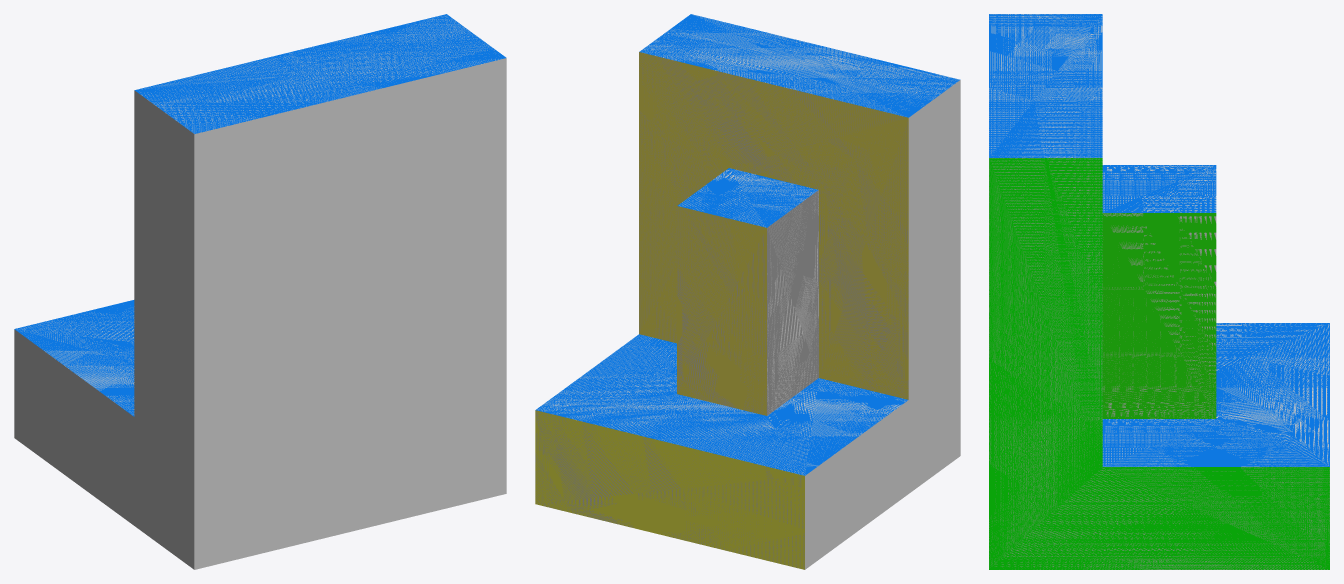
Rendered from Figura5.dae.
The picture shows the model from 3 angles, left to right: view 1: azimuth 30°, elevation 25°; view 2: azimuth 150°, elevation 25°; view 3: azimuth 270°, elevation 25°; orthographic projection. The views are drawn at different scales.
Parts seen in each view (by area): view 1: SketchUp (×3); view 2: SketchUp (×8); view 3: SketchUp (×5).
Part boxes in pixels (left/top/right/bottom): SketchUp (×3): left=14, top=14, right=506, bottom=569; SketchUp (×8): left=535, top=14, right=960, bottom=569; SketchUp (×5): left=989, top=14, right=1329, bottom=569.
Size of the model in its own units: 23.62 by 23.62 by 31.5.
